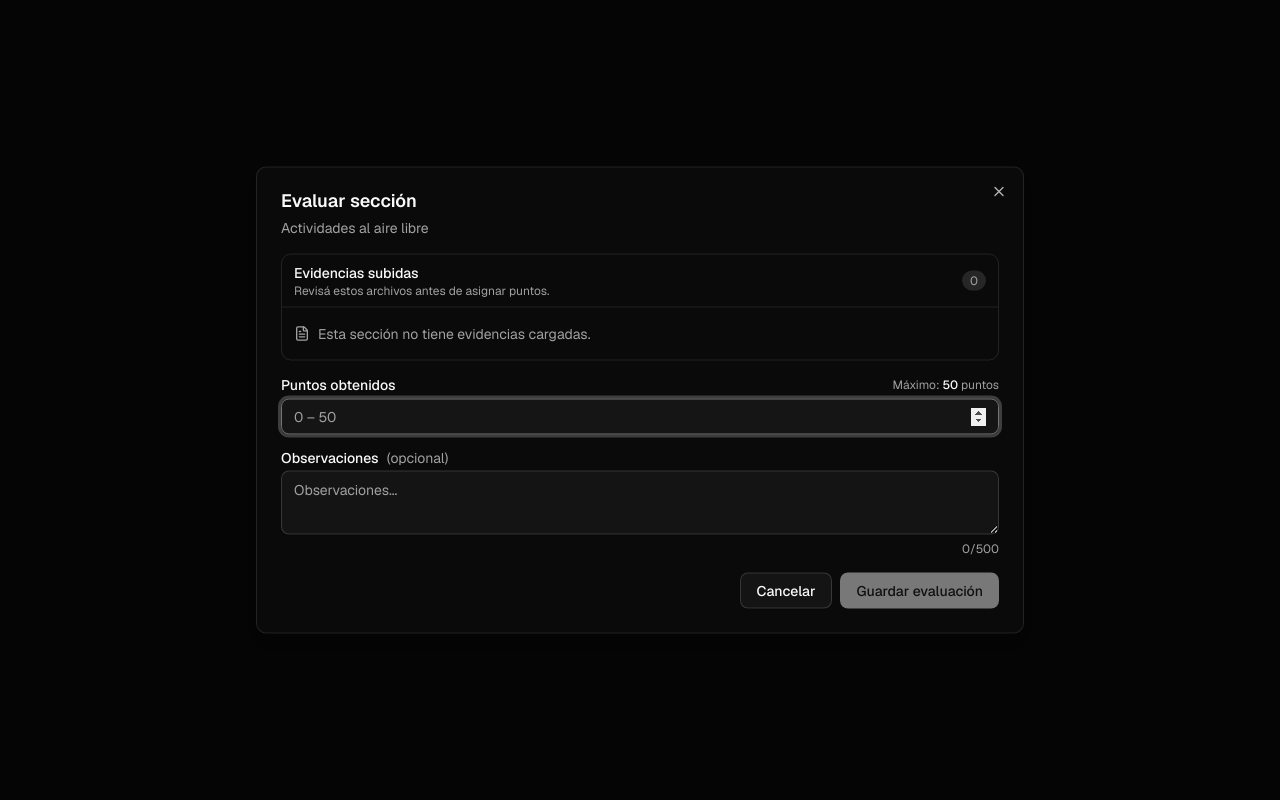
Scenario: EvaluateSectionDialog › shows error message for negative points
Type "-1" into the number field with id "earned-points" at (640, 416), box [281,398,999,434]
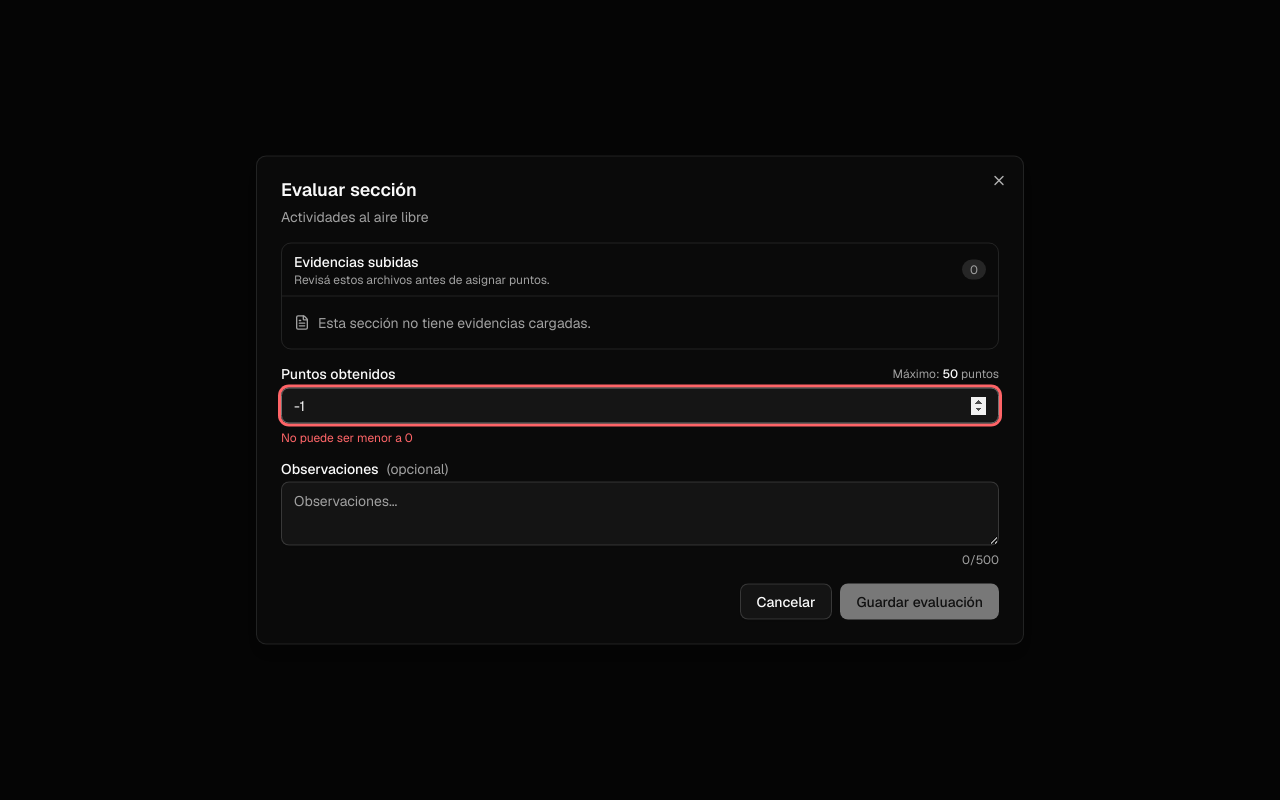
expect the button "Guardar evaluación" is disabled: met, box [840,584,999,620]
expect the text "No puede ser menor a 0" is shown: met, box [281,430,413,446]
